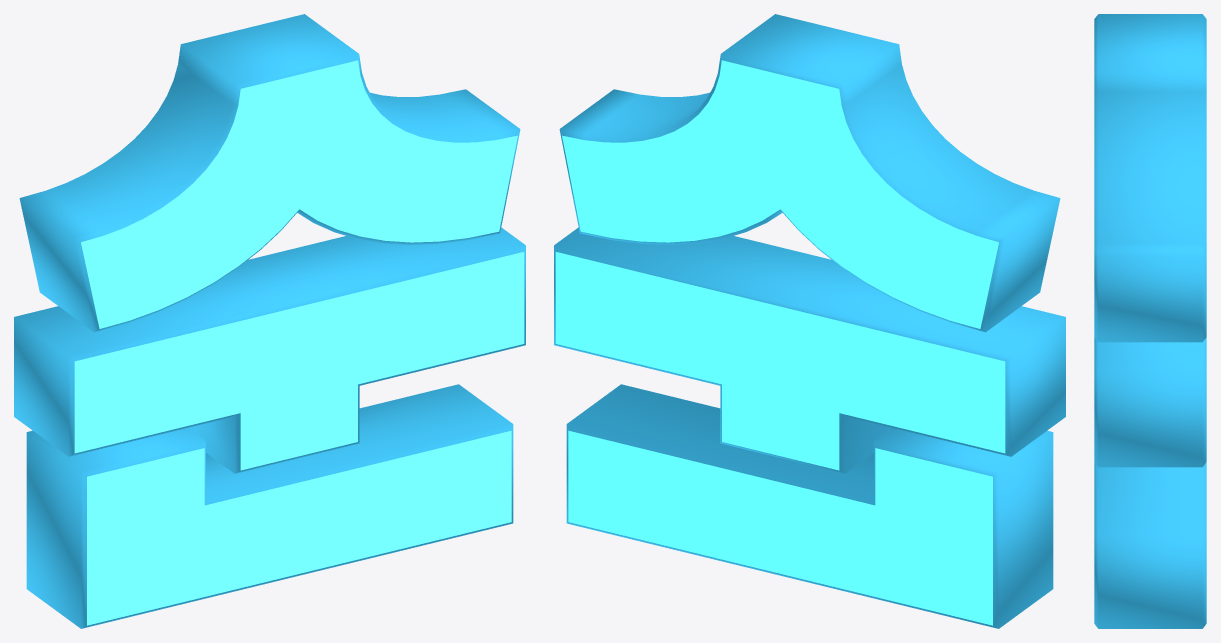
3 views of the same model, side by side, from view 1: azimuth 30°, elevation 25°; view 2: azimuth 150°, elevation 25°; view 3: azimuth 270°, elevation 25° (orthographic). The views are drawn at different scales.
Parts seen in each view (by area): view 1: glyph; view 2: glyph; view 3: glyph.
Boxes of the visible parts, x1=… form: glyph: x1=14, y1=14, x2=525, y2=628; glyph: x1=554, y1=14, x2=1065, y2=628; glyph: x1=1094, y1=14, x2=1206, y2=628.
Size of the model in its own units: 0.0726 by 0.077 by 0.0162.
